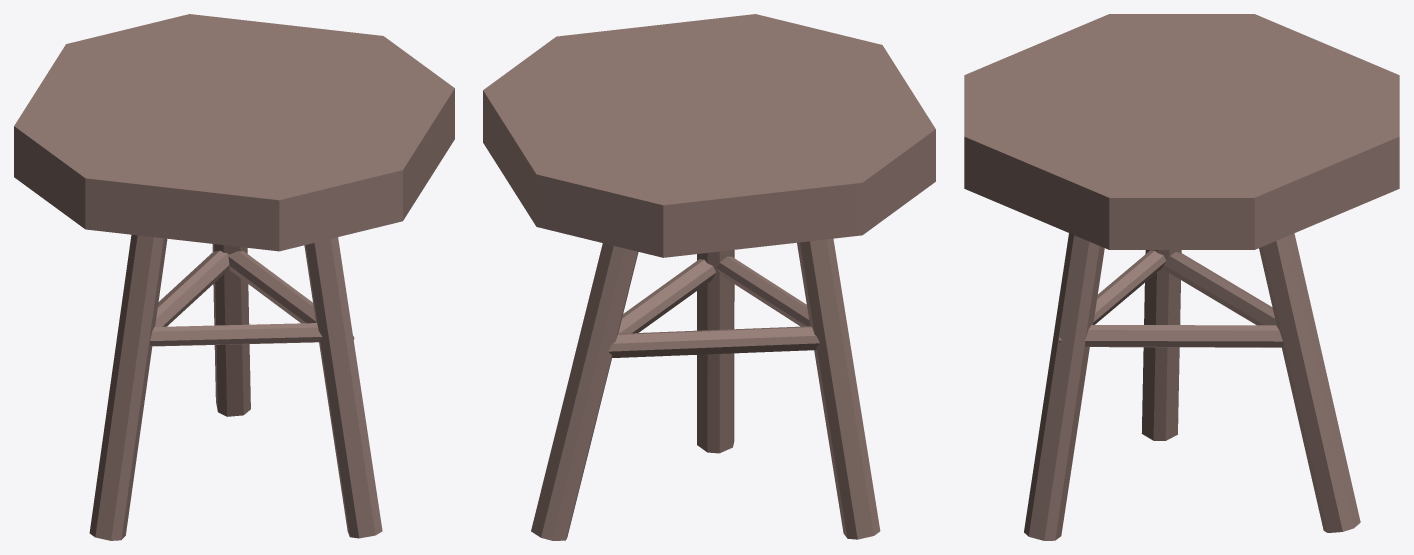
Rendered from Stool.fbx.
3 views of the same model, side by side, from view 1: azimuth 30°, elevation 25°; view 2: azimuth 150°, elevation 25°; view 3: azimuth 270°, elevation 25° (orthographic). The views are drawn at different scales.
Parts seen in each view (by area): view 1: Stool; view 2: Stool; view 3: Stool.
Part boxes in pixels (x1=…): Stool: x1=14, y1=14, x2=454, y2=540; Stool: x1=483, y1=14, x2=935, y2=540; Stool: x1=964, y1=14, x2=1399, y2=540.
Size of the model in its own units: 67.28 by 67.28 by 68.26.
